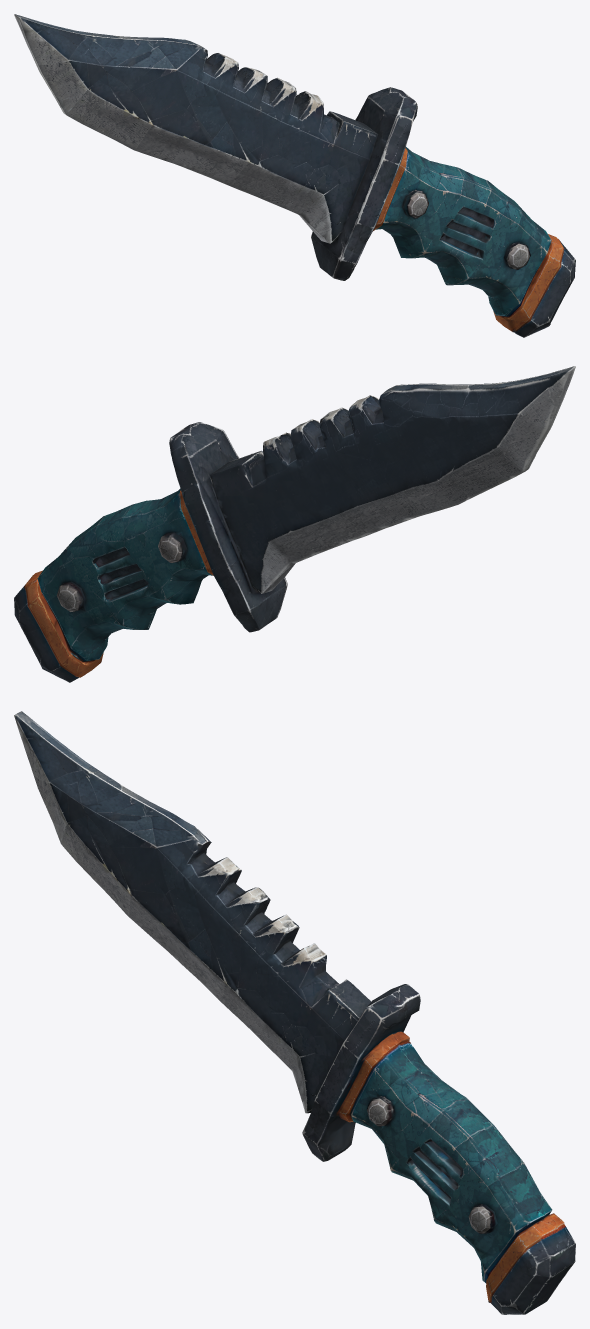
File: knife_3d_model.glb
3 views of the same model, one above another, from view 1: azimuth 30°, elevation 25°; view 2: azimuth 150°, elevation 25°; view 3: azimuth 330°, elevation 25° (orthographic). The views are drawn at different scales.
Visible parts, largest first — view 1: tripo_node_ec6c3d92-28f9-4f86-b22d-d5beb0890d75; view 2: tripo_node_ec6c3d92-28f9-4f86-b22d-d5beb0890d75; view 3: tripo_node_ec6c3d92-28f9-4f86-b22d-d5beb0890d75.
Part boxes in pixels (x1,y1,x2,y2): tripo_node_ec6c3d92-28f9-4f86-b22d-d5beb0890d75: (14,14,575,337); tripo_node_ec6c3d92-28f9-4f86-b22d-d5beb0890d75: (14,366,575,682); tripo_node_ec6c3d92-28f9-4f86-b22d-d5beb0890d75: (14,711,575,1314).
Bounding box in the file's own units: 0.9795 × 0.7371 × 0.1509.
Materials: 1 (1 with a texture image).
